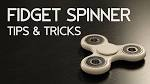fidget_spinner: (69, 26, 147, 74)
